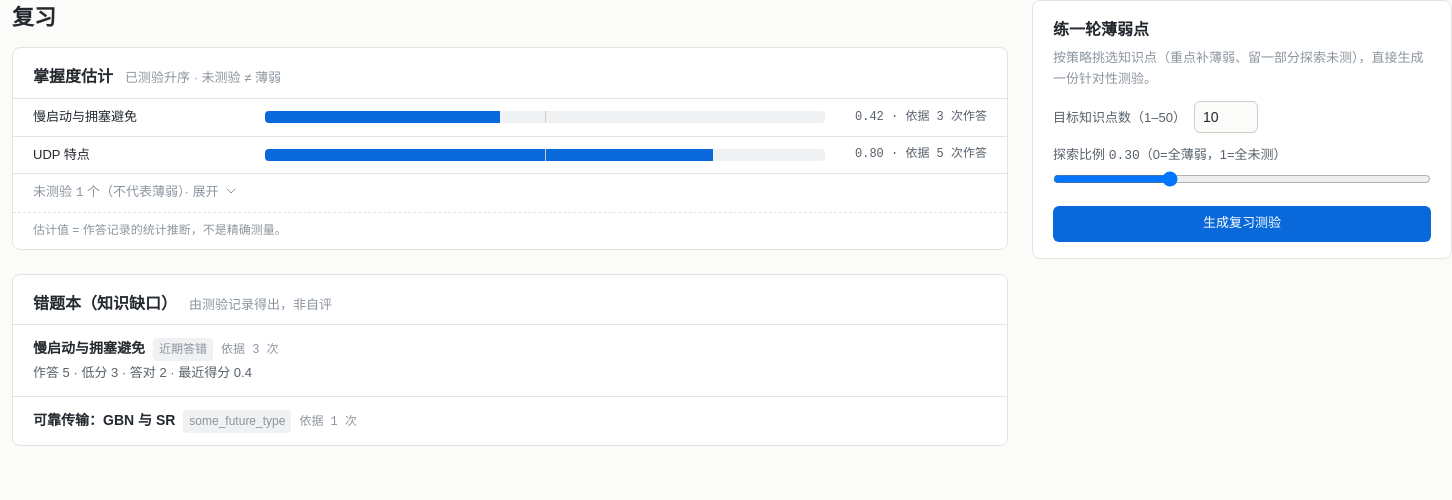
it: 掌握度列表：已测验按估计升序，未测验默认折叠成计数行、展开后显示灰条
Expected: the text "0.42 · 依据 3 次作答" is shown, [837,108,987,127]
Expected: the text "0.80 · 依据 5 次作答" is shown, [837,145,987,165]
// 展开后出现未测验灰条
Click the button "未测验 1 个（不代表薄弱）· 展开" at (54, 192), box [13,173,1007,212]
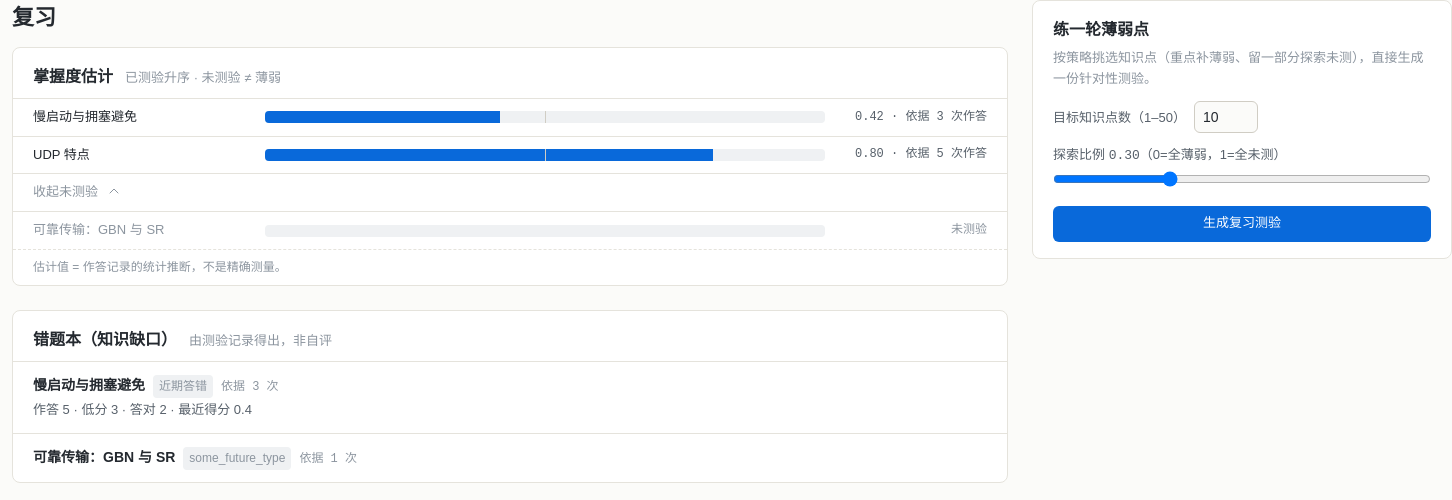
Expected: the text "未测验" is shown, [951,223,987,237]
Expected: the button "收起未测验" is shown, [13,173,1007,211]
